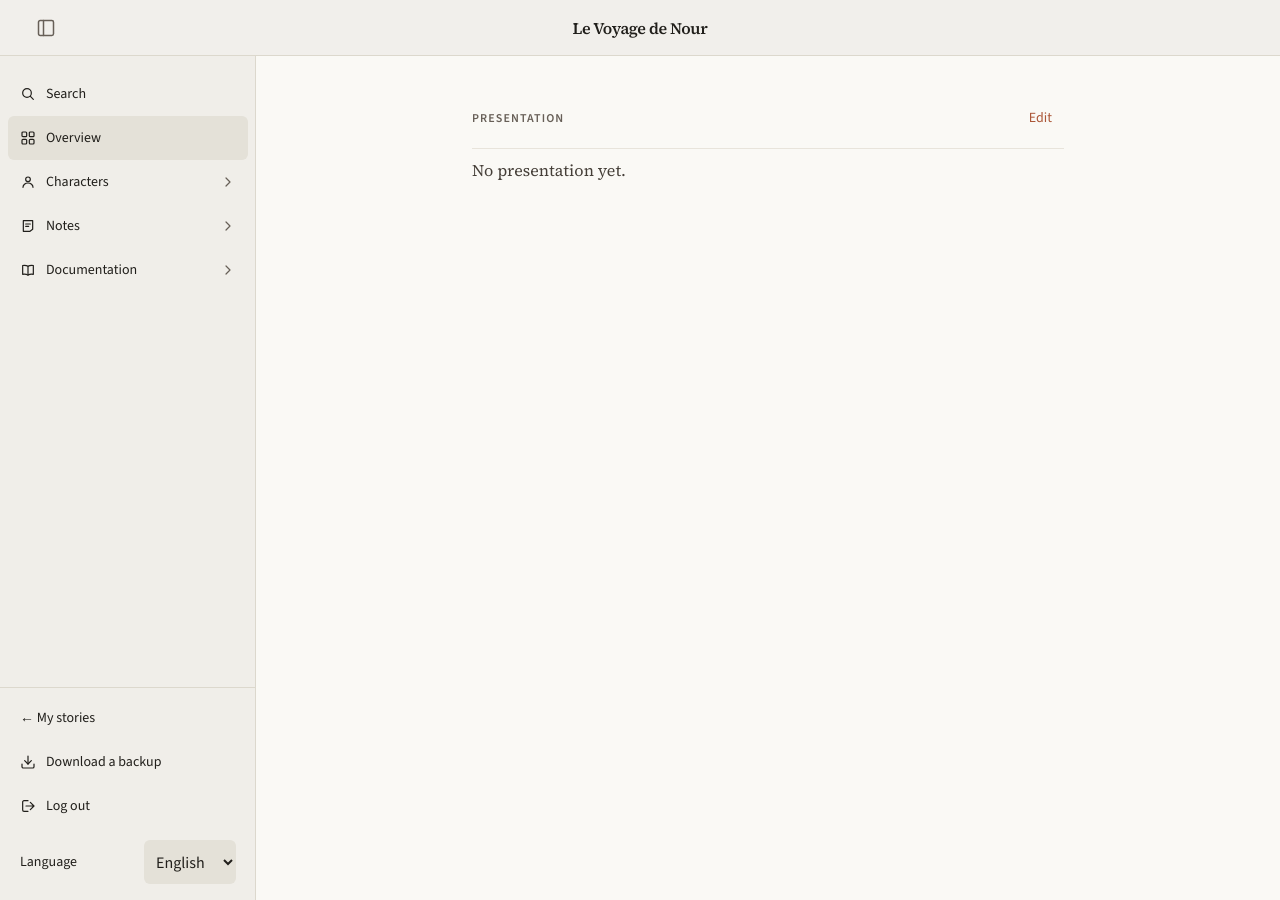
Test: StoryPageClient › on a desktop-width viewport › keeps the sidebar open after navigating to a different section
The image size is (1280, 900).
Expected: the element with test id "story-nav-drawer" is shown, top-left (0, 56), bottom-right (256, 899)
Click the link with test id "story-nav-search": (53, 94) top-left (20, 84), bottom-right (86, 103)
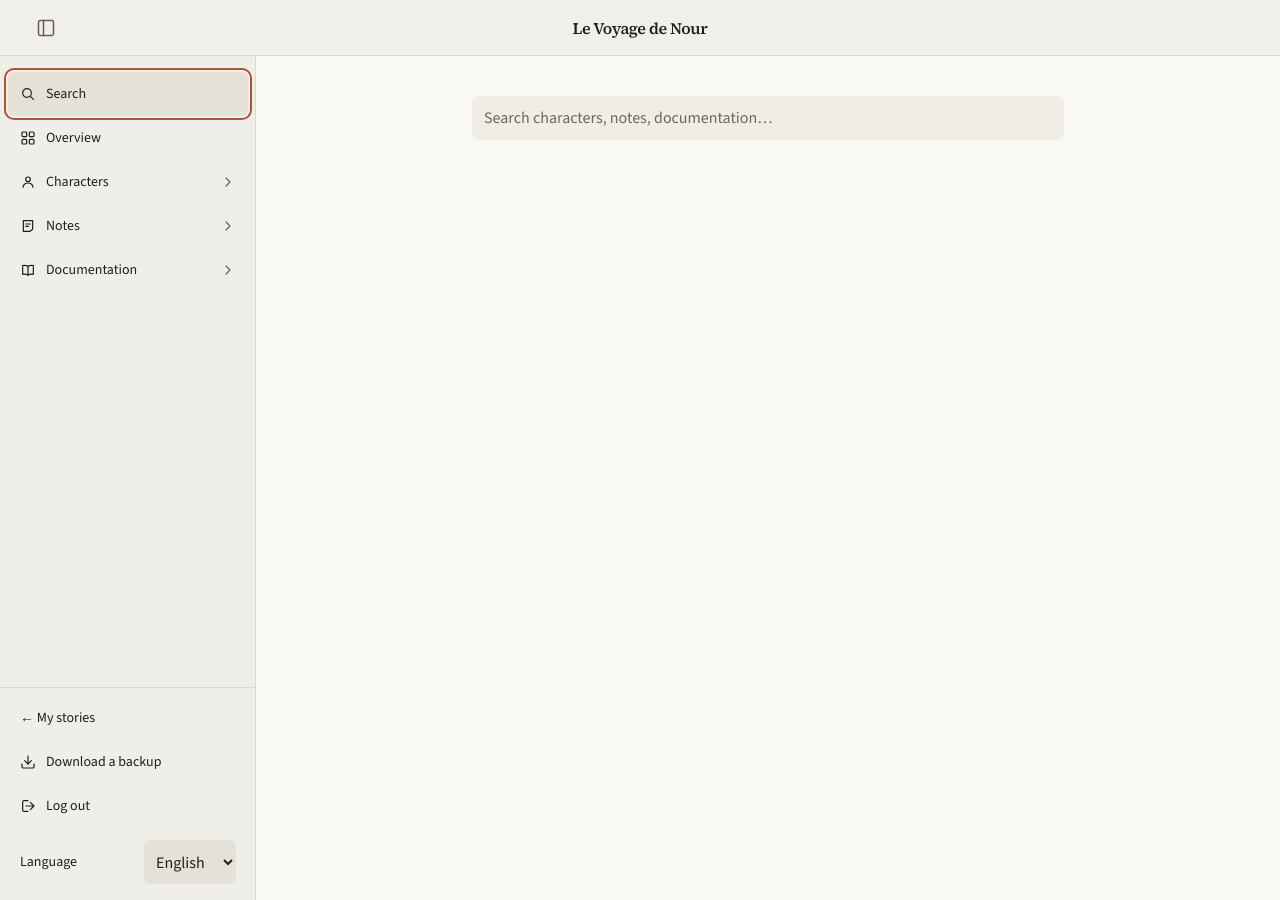
Expected: the element with test id "story-nav-drawer" is shown, top-left (0, 56), bottom-right (256, 899)
Result: the search field with test id "search-input" is shown at top-left (472, 96), bottom-right (1064, 140)
